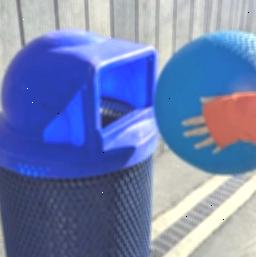algae: (151, 28, 256, 172)
